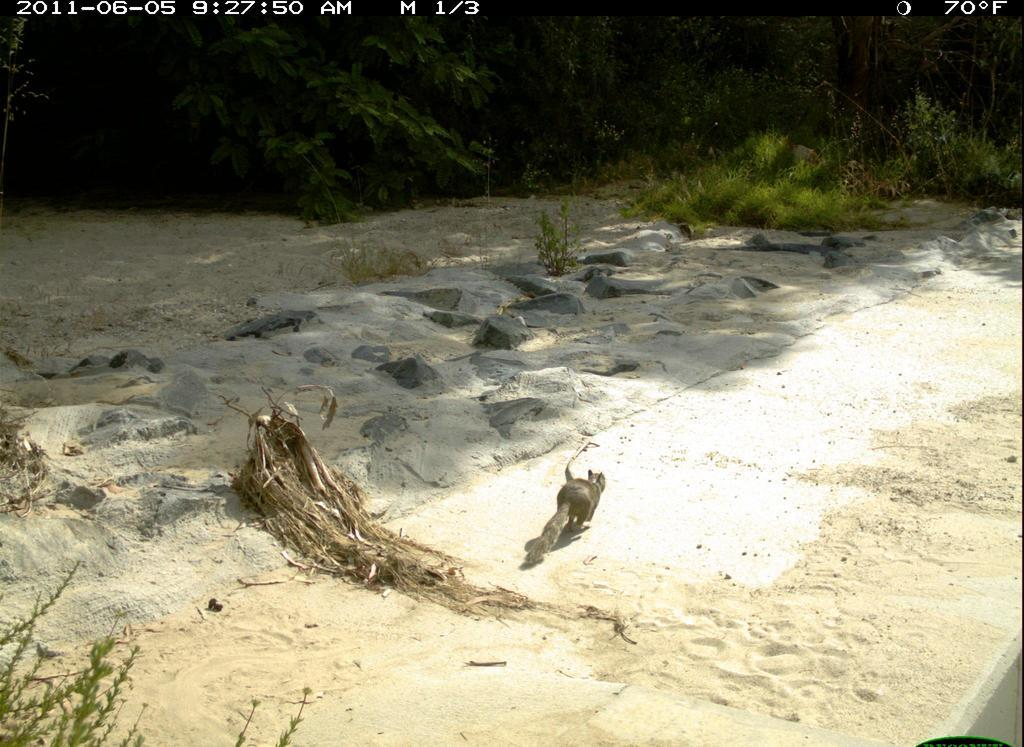squirrel: (514, 465, 616, 575)
